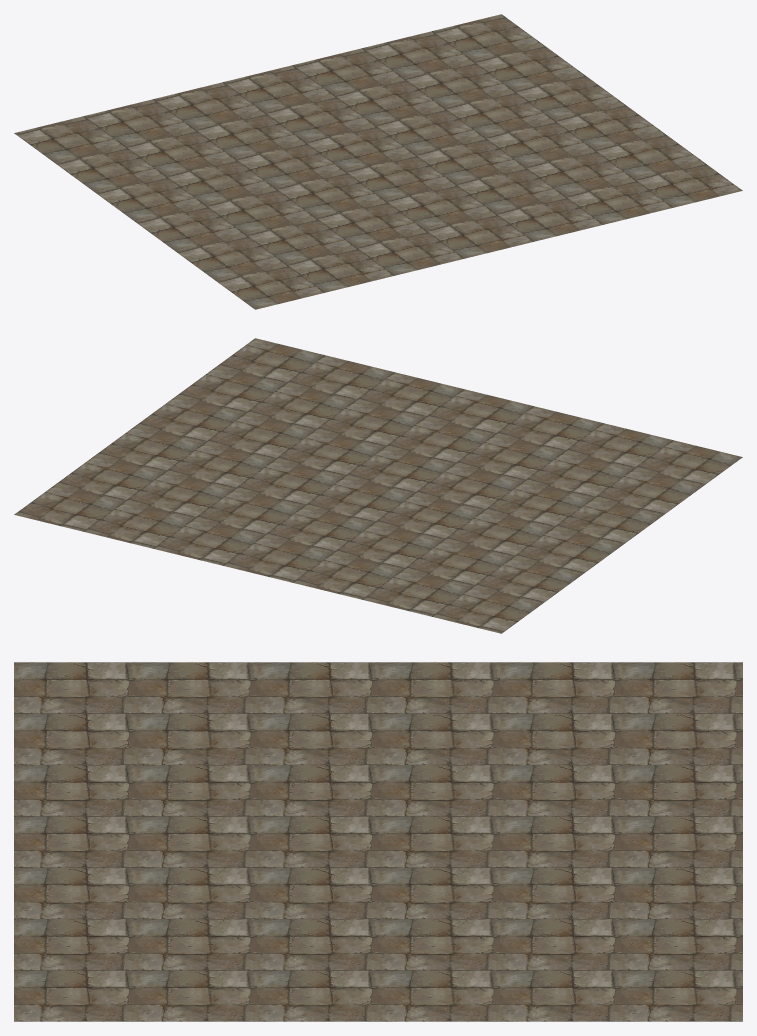
Rendered from Redrock_Canyon_2F_a.FBX.
3 views of the same model, one above another, from view 1: azimuth 30°, elevation 25°; view 2: azimuth 150°, elevation 25°; view 3: azimuth 270°, elevation 25° (orthographic). The views are drawn at different scales.
Visible parts, largest first — view 1: Redrock_Canyon_2F_a; view 2: Redrock_Canyon_2F_a; view 3: Redrock_Canyon_2F_a.
Boxes of the visible parts, x1=… form: Redrock_Canyon_2F_a: x1=14, y1=14, x2=742, y2=309; Redrock_Canyon_2F_a: x1=14, y1=338, x2=742, y2=633; Redrock_Canyon_2F_a: x1=14, y1=662, x2=742, y2=1021.
Size of the model in its own units: 28 by 5.51e-05 by 24.
